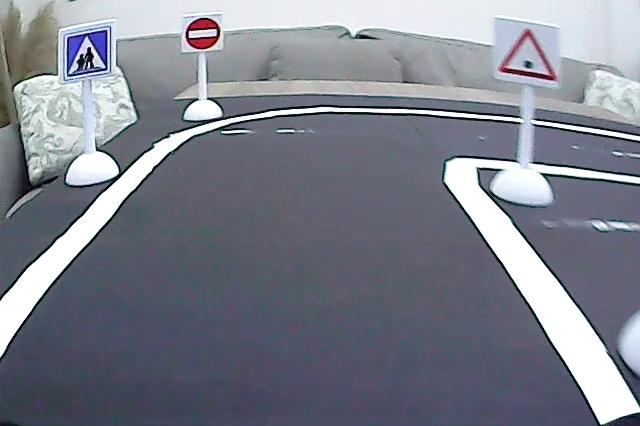do not enter: (183, 15, 222, 53)
green light: (495, 22, 561, 84)
school crossing: (61, 26, 114, 80)
